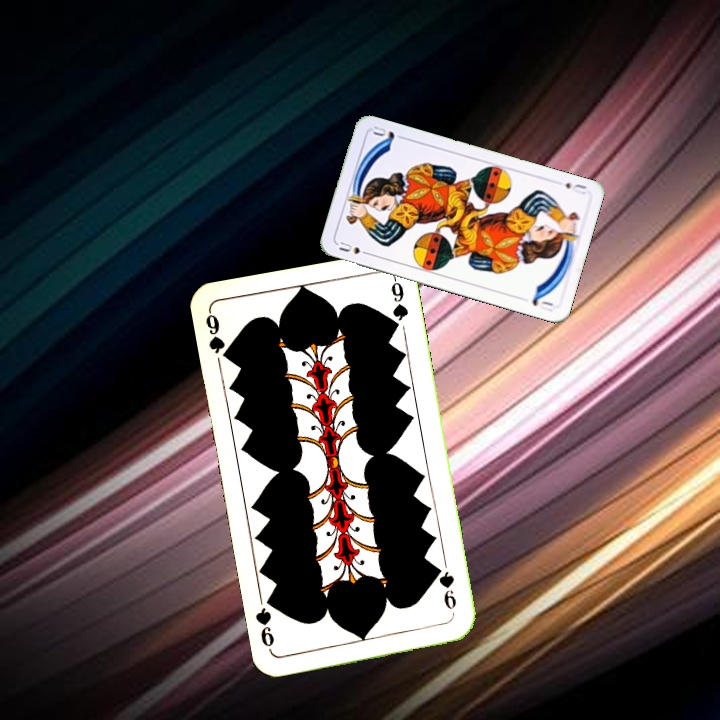G9: (201, 307, 234, 364), (432, 562, 459, 613)
SU: (335, 237, 374, 258), (561, 178, 589, 197)
